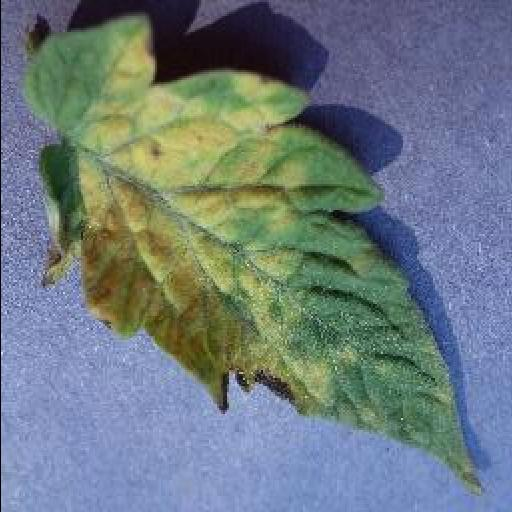disease_tomato: (20, 18, 486, 492)
